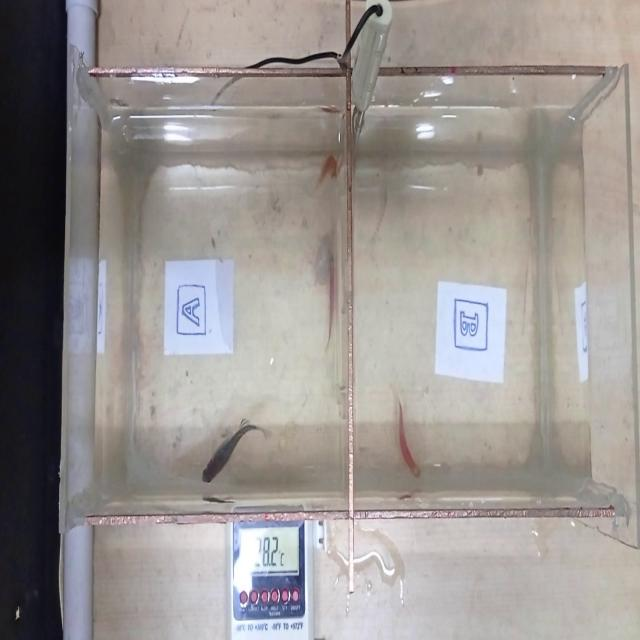Fish A1: (190, 409, 277, 494)
Fish A2: (312, 144, 341, 208)
Fish A3: (323, 248, 345, 360)
Fish B: (395, 384, 432, 487)
